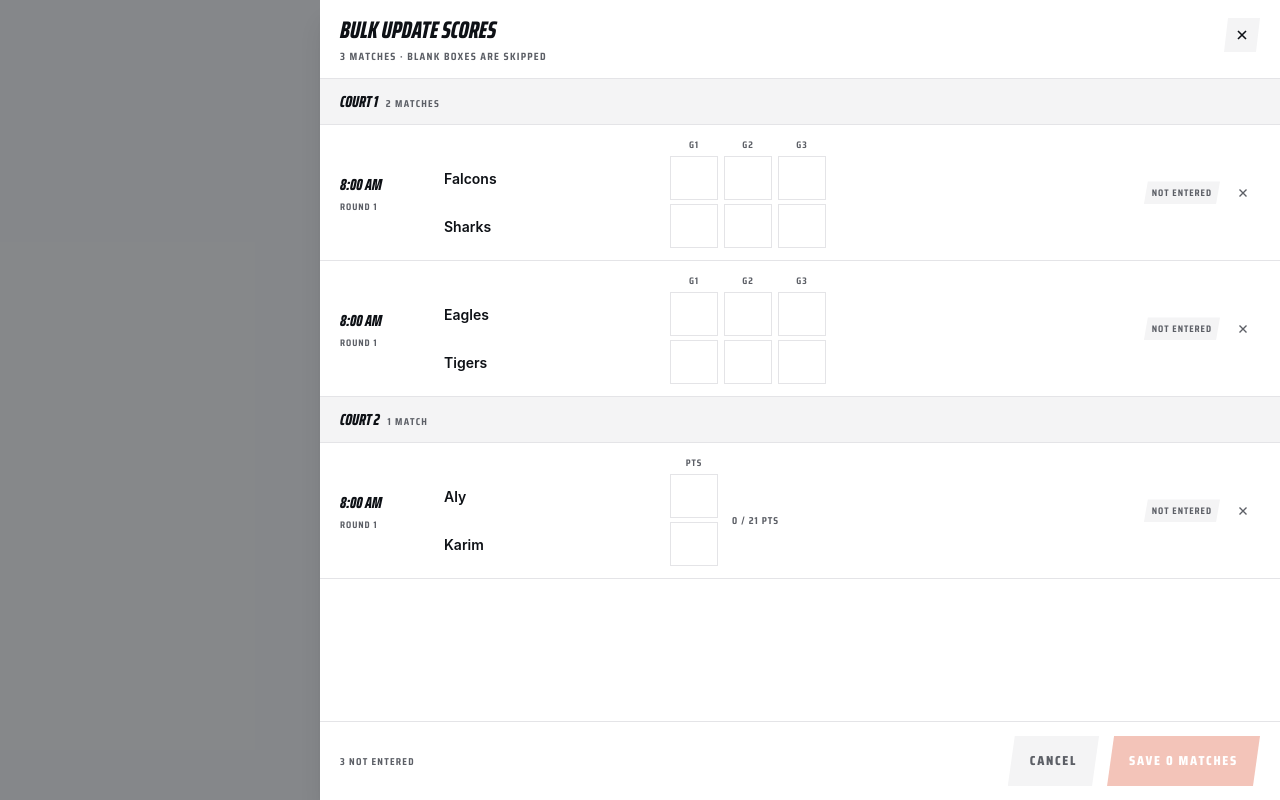
saves only the valid rows when the user explicitly skips the rest
The width and height of the screenshot is (1280, 800).
Type "21" into the field named "Falcons game 1" at (694, 178), box [670,156,718,200]
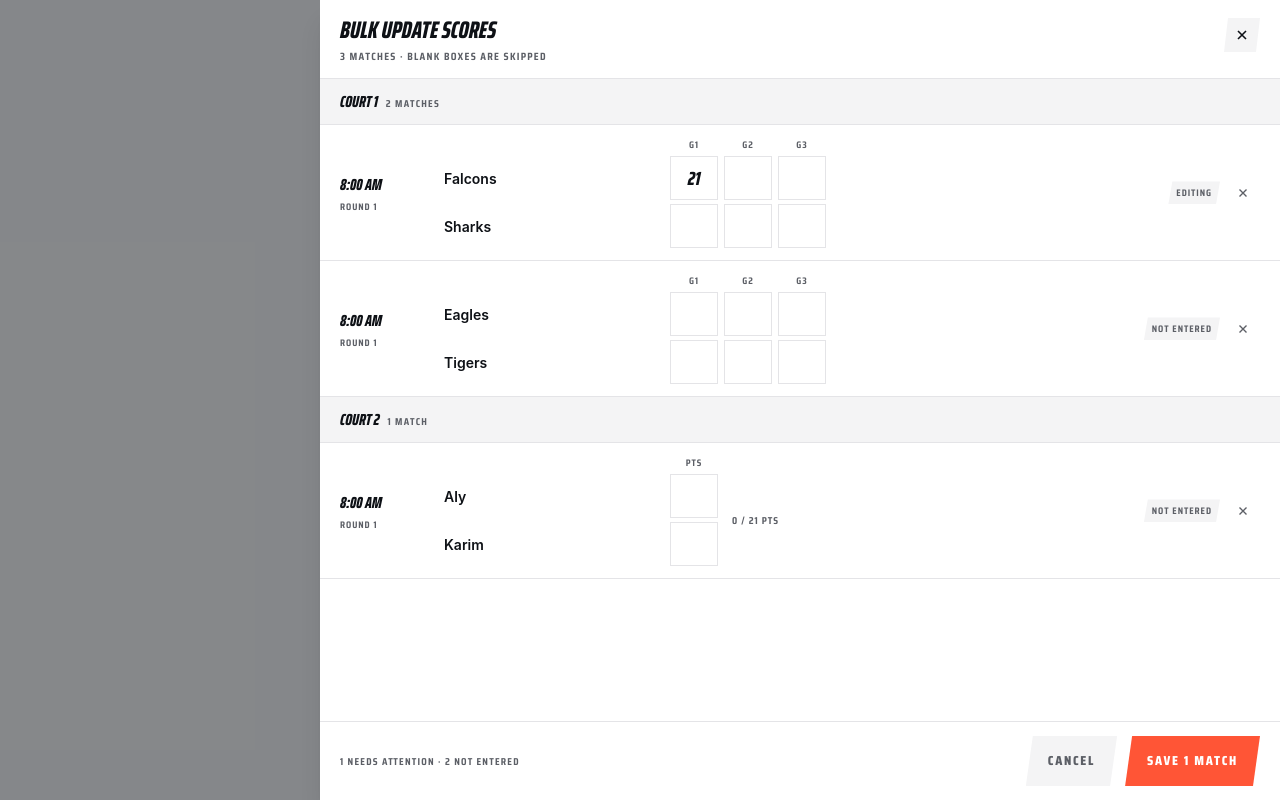
Type "21" into the field named "Sharks game 1" at (694, 226), box [670,204,718,248]
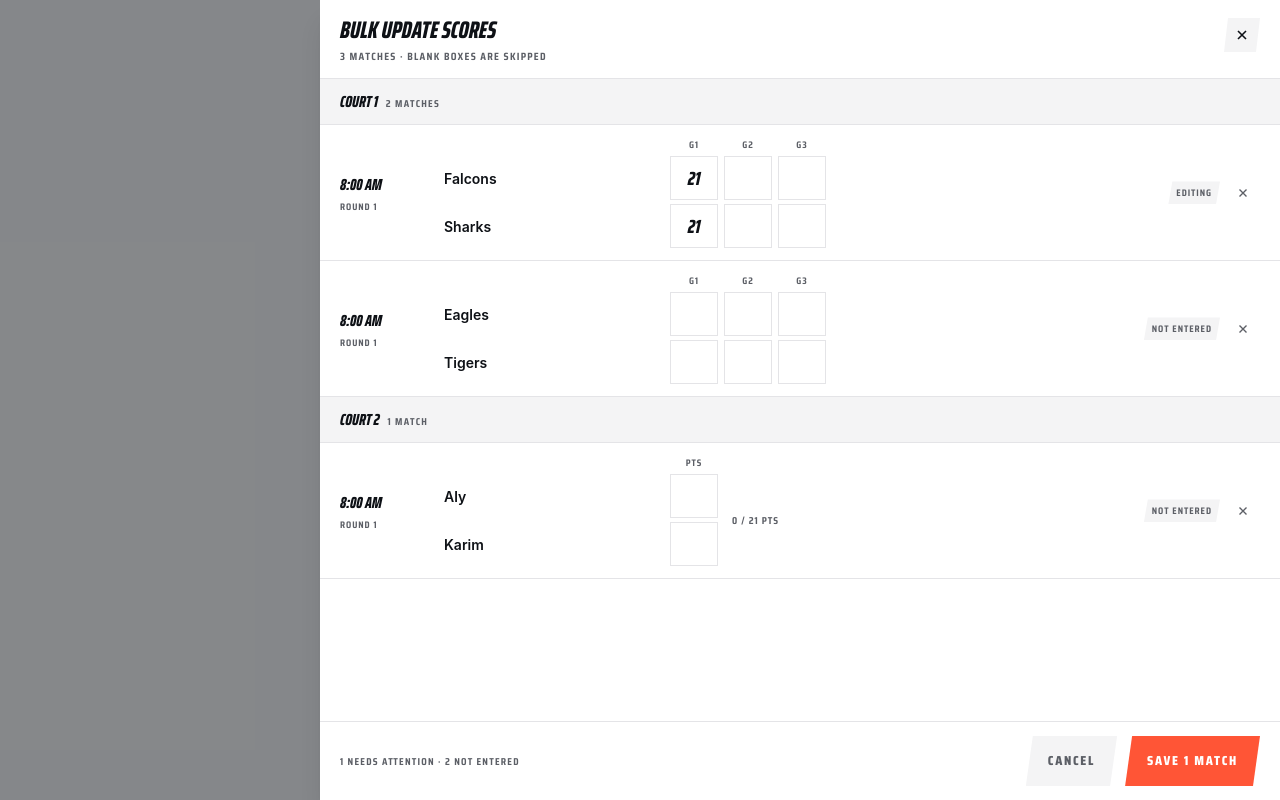
Type "21" into the field named "Eagles game 1" at (694, 314), box [670,292,718,336]
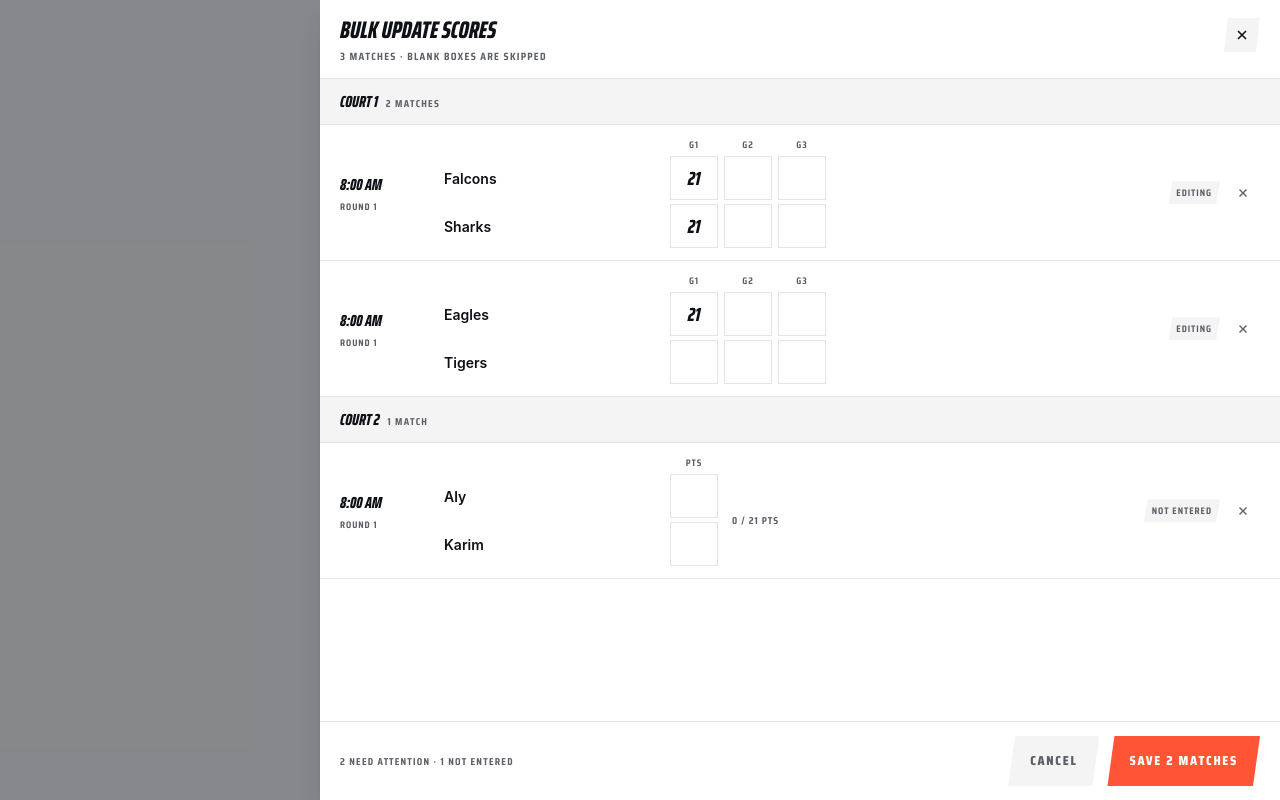
Type "15" into the field named "Tigers game 1" at (694, 362), box [670,340,718,384]
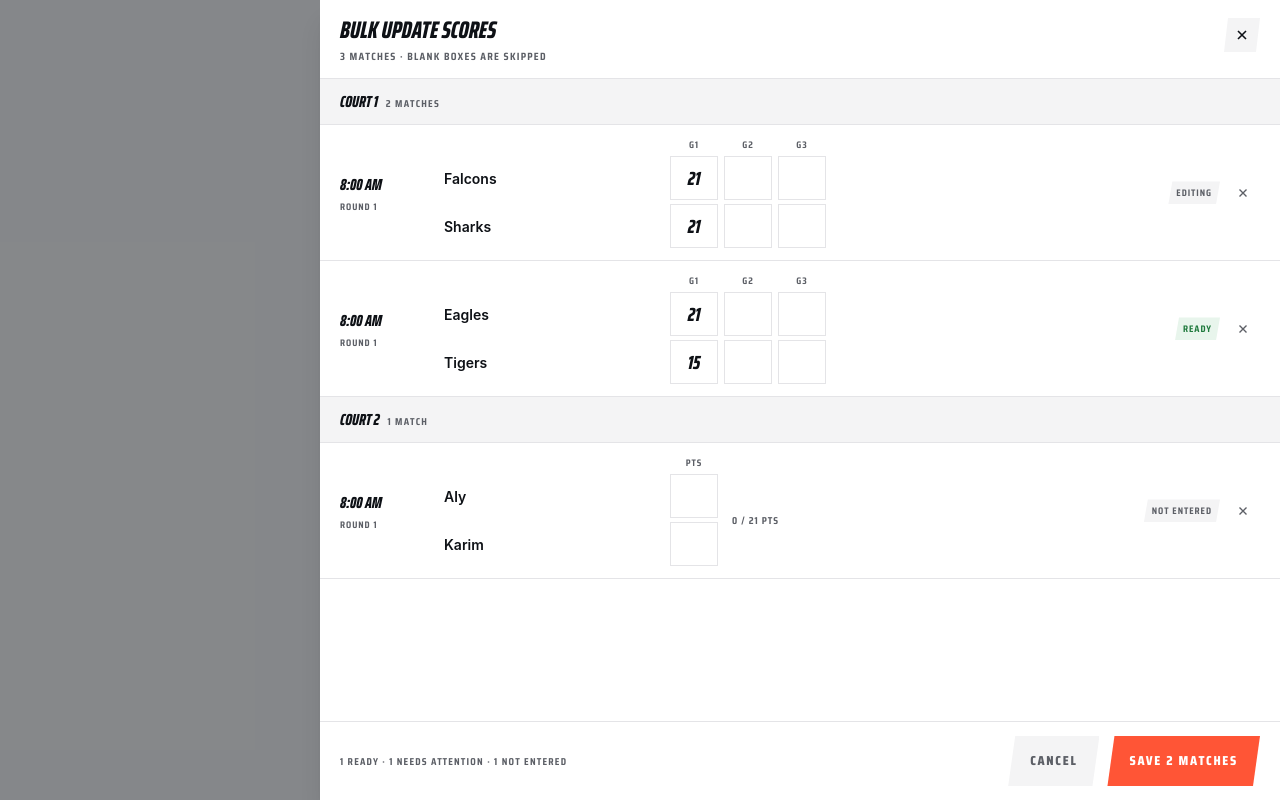
Click the button "Save 2 matches" at (1184, 761), box [1108,736,1260,786]
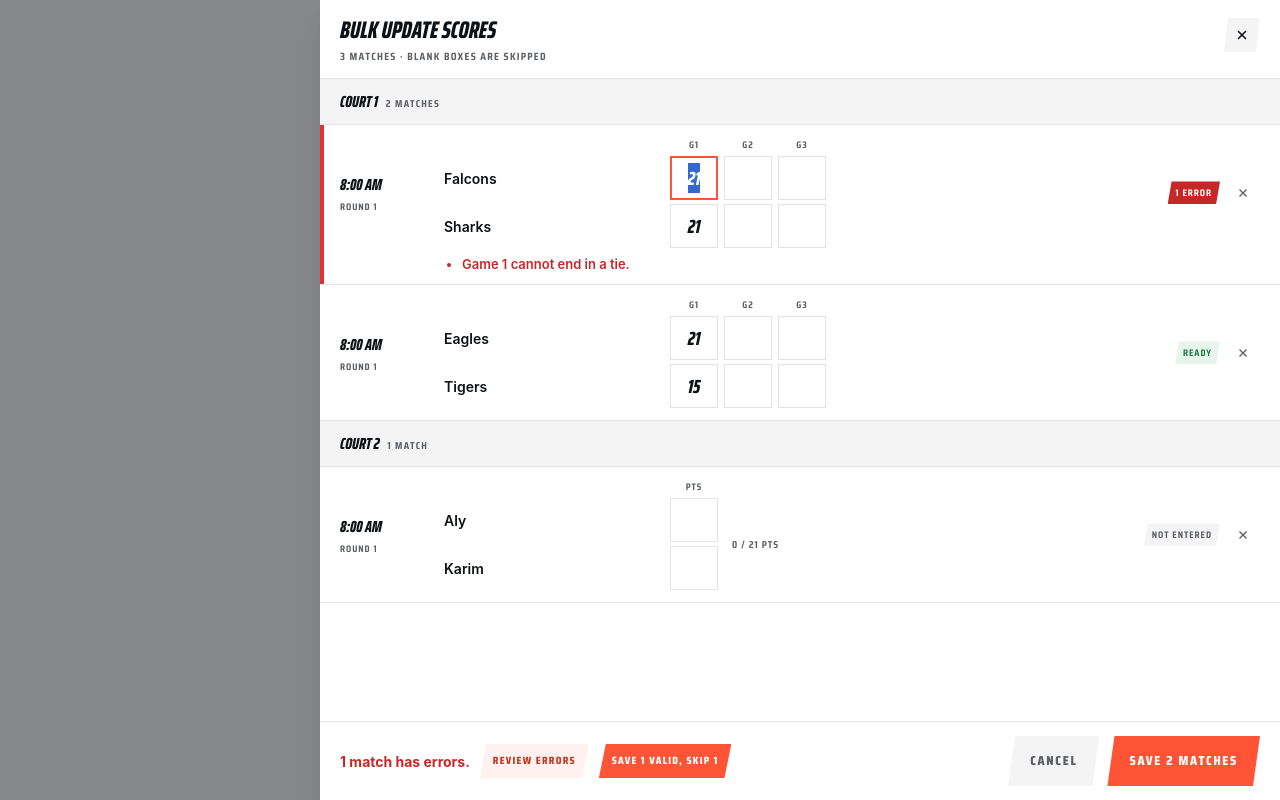
Click the button "Save 1 valid, skip 1" at (665, 761), box [599,744,731,778]
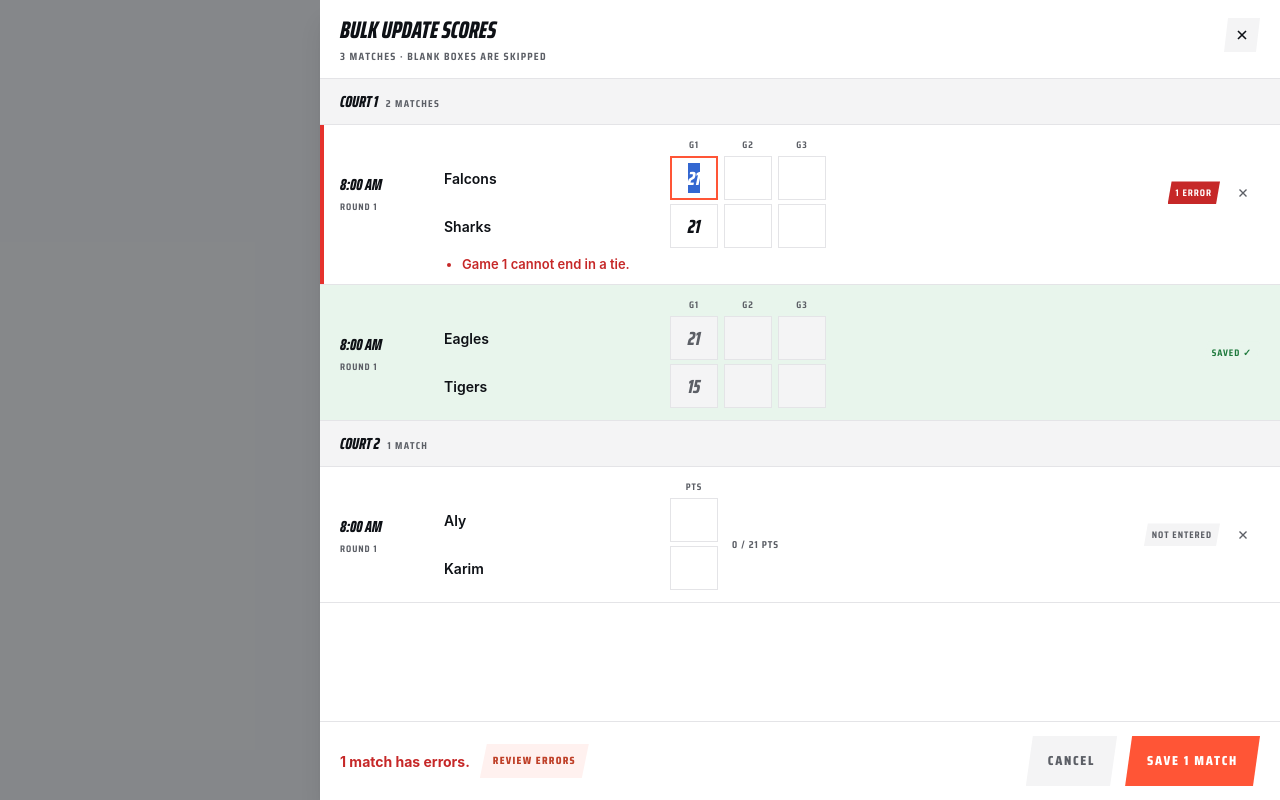
expect the text "Saved ✓" is shown: met, box [1204,341,1260,364]
